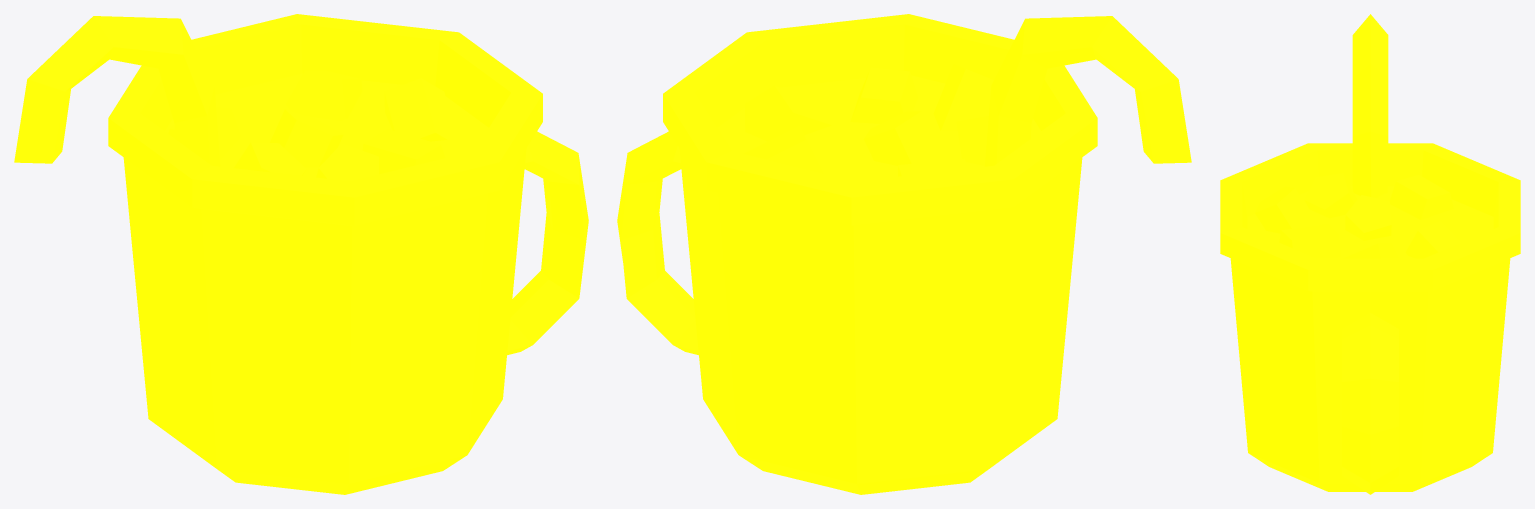
Rendered from hot-chocolate.glb.
3 renders of one model, left to right at view 1: azimuth 30°, elevation 25°; view 2: azimuth 150°, elevation 25°; view 3: azimuth 270°, elevation 25°, orthographic. The views are drawn at different scales.
Visible parts, largest first — view 1: hot_chocolate; view 2: hot_chocolate; view 3: hot_chocolate.
Boxes of the visible parts, x1=… form: hot_chocolate: x1=14, y1=14, x2=588, y2=494; hot_chocolate: x1=617, y1=14, x2=1191, y2=494; hot_chocolate: x1=1220, y1=14, x2=1520, y2=494.
Size of the model in its own units: 0.1644 by 0.1295 by 0.1003.
Materials: 1 (1 with a texture image).
